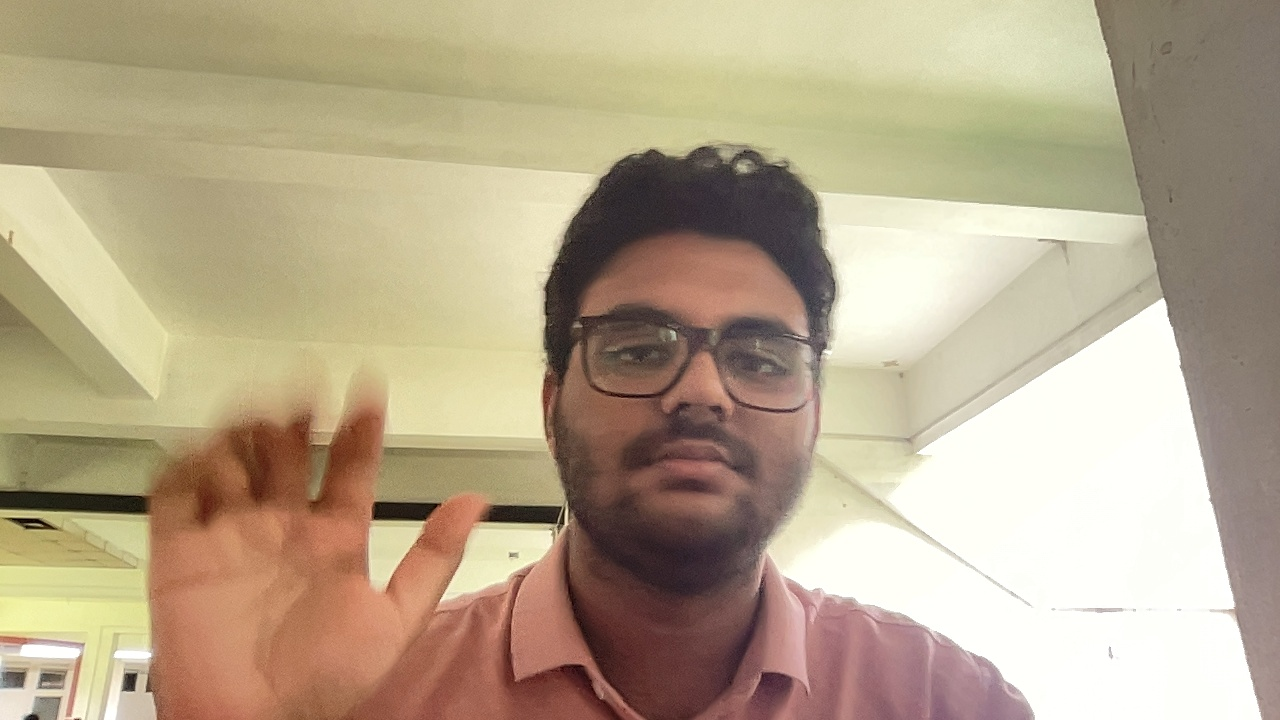hello: (126, 355, 489, 720)
